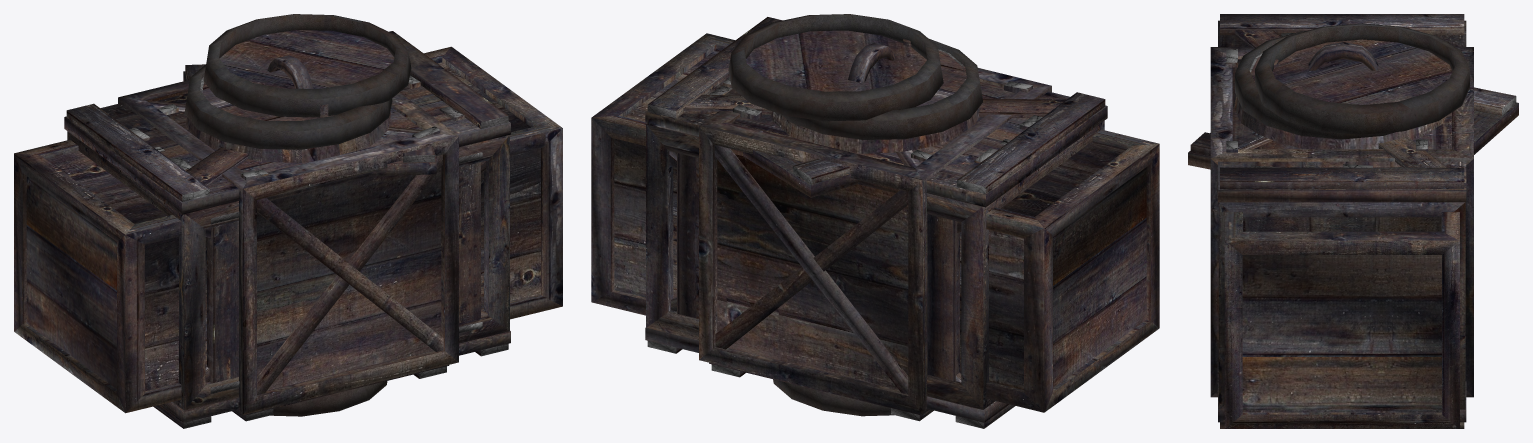
Rendered from containers.glb.
3 views of the same model, side by side, from view 1: azimuth 30°, elevation 25°; view 2: azimuth 150°, elevation 25°; view 3: azimuth 270°, elevation 25° (orthographic). The views are drawn at different scales.
Parts seen in each view (by area): view 1: Crate3_4, Crate2_1, Crate2_3, Barrel1_5, Crate2_2, Barrel1_4, Barrel1_6, Crate3_2, Crate3_3, Crate1_5, Barrel1_2; view 2: Crate3_4, Crate2_1, Crate2_3, Barrel1_5, Crate2_2, Barrel1_4, Barrel1_6, Crate3_2, Crate1_5, Crate3_3, Barrel1_2; view 3: Crate2_1, Crate2_3, Barrel1_5, Crate3_4, Barrel1_4, Crate3_2, Barrel1_6, Barrel1_2, Crate1_5.
Boxes of the visible parts, left/top/right/bottom form: Crate3_4: left=118, top=80, right=458, bottom=414; Crate2_1: left=14, top=46, right=562, bottom=413; Crate2_3: left=64, top=31, right=510, bottom=428; Barrel1_5: left=203, top=14, right=411, bottom=117; Crate2_2: left=207, top=152, right=482, bottom=393; Barrel1_4: left=184, top=64, right=392, bottom=162; Barrel1_6: left=186, top=77, right=390, bottom=416; Crate3_2: left=183, top=64, right=436, bottom=176; Crate3_3: left=232, top=172, right=449, bottom=421; Crate1_5: left=129, top=75, right=464, bottom=180; Barrel1_2: left=267, top=55, right=313, bottom=88; Crate3_4: left=699, top=68, right=1051, bottom=414; Crate2_1: left=591, top=33, right=1159, bottom=412; Crate2_3: left=645, top=17, right=1107, bottom=428; Barrel1_5: left=728, top=14, right=943, bottom=121; Crate2_2: left=677, top=153, right=959, bottom=381; Barrel1_4: left=782, top=38, right=982, bottom=139; Barrel1_6: left=771, top=49, right=980, bottom=416; Crate3_2: left=743, top=150, right=857, bottom=197; Crate1_5: left=708, top=77, right=1042, bottom=163; Crate3_3: left=709, top=149, right=933, bottom=421; Barrel1_2: left=848, top=43, right=896, bottom=83; Crate2_1: left=1224, top=212, right=1459, bottom=428; Crate2_3: left=1218, top=14, right=1466, bottom=428; Barrel1_5: left=1255, top=23, right=1469, bottom=134; Crate3_4: left=1210, top=47, right=1473, bottom=397; Barrel1_4: left=1234, top=31, right=1395, bottom=139; Crate3_2: left=1188, top=87, right=1518, bottom=169; Barrel1_6: left=1233, top=53, right=1446, bottom=149; Barrel1_2: left=1308, top=42, right=1378, bottom=70; Crate1_5: left=1226, top=33, right=1427, bottom=167.
Bounding box in the file's own units: 1.29 × 0.8844 × 0.8036.
11 materials, 11 textured.
